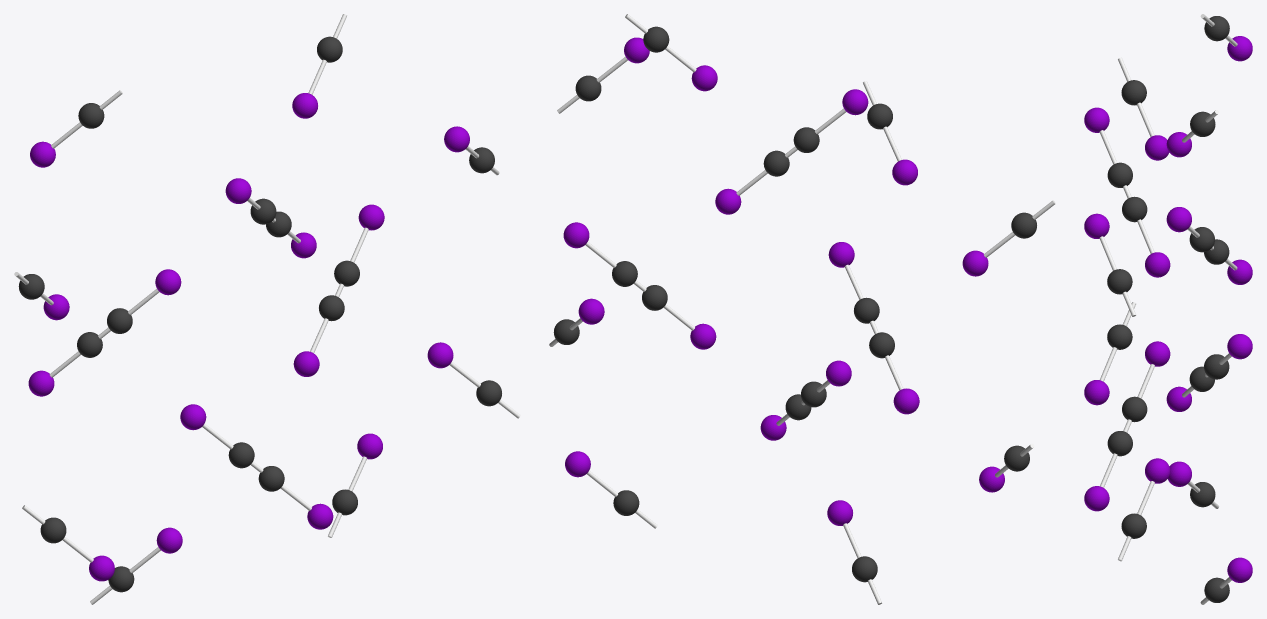
Rendered from structure_mpstyle.glb.
3 views of the same model, side by side, from view 1: azimuth 30°, elevation 25°; view 2: azimuth 150°, elevation 25°; view 3: azimuth 270°, elevation 25° (orthographic).
Visible parts, largest first — view 1: world; view 2: world; view 3: world.
Boxes of the visible parts, bbox=[...] form: world: bbox=[14, 14, 520, 604]; world: bbox=[549, 14, 1055, 604]; world: bbox=[1084, 14, 1252, 604].
Size of the model in its own units: 18.02 by 18.02 by 5.3.
